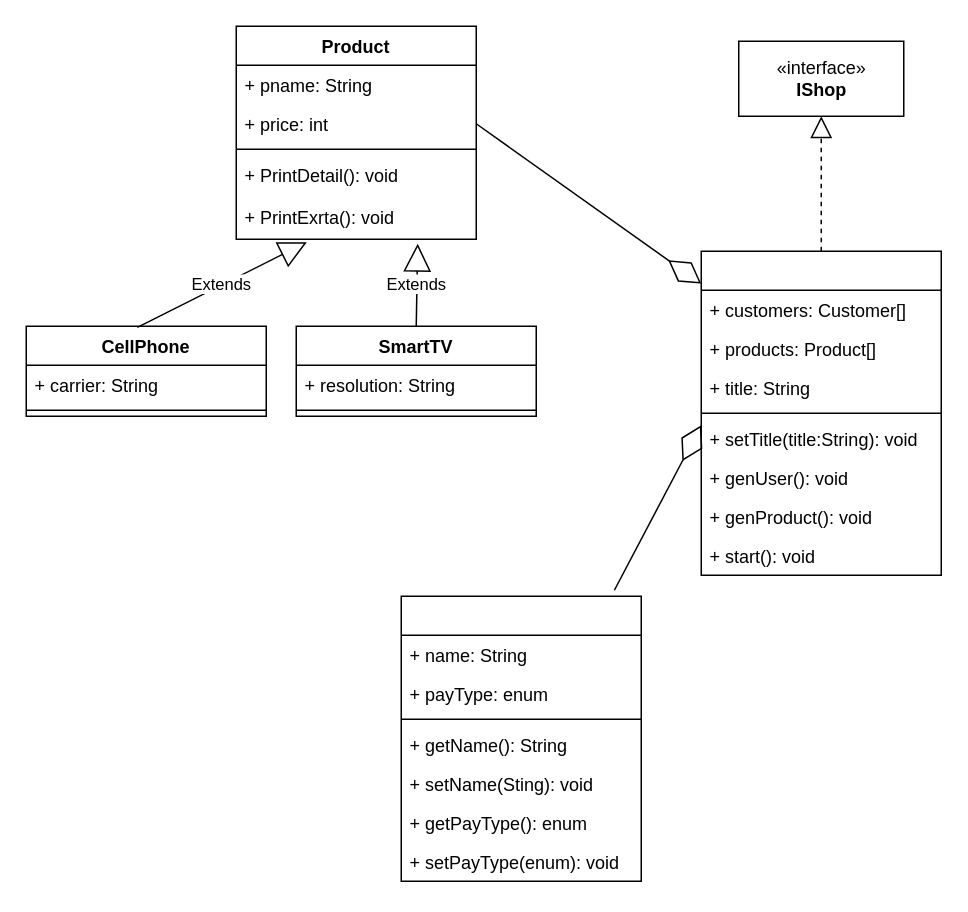
The diagram is 968 pixels wide and 912 high, and some of its shapes have lost their labels. The box of each missing label's shape, as (x1, y1, x2, y2) in pixels:
Customer: (400, 595, 641, 881)
MyShop: (700, 250, 941, 575)
